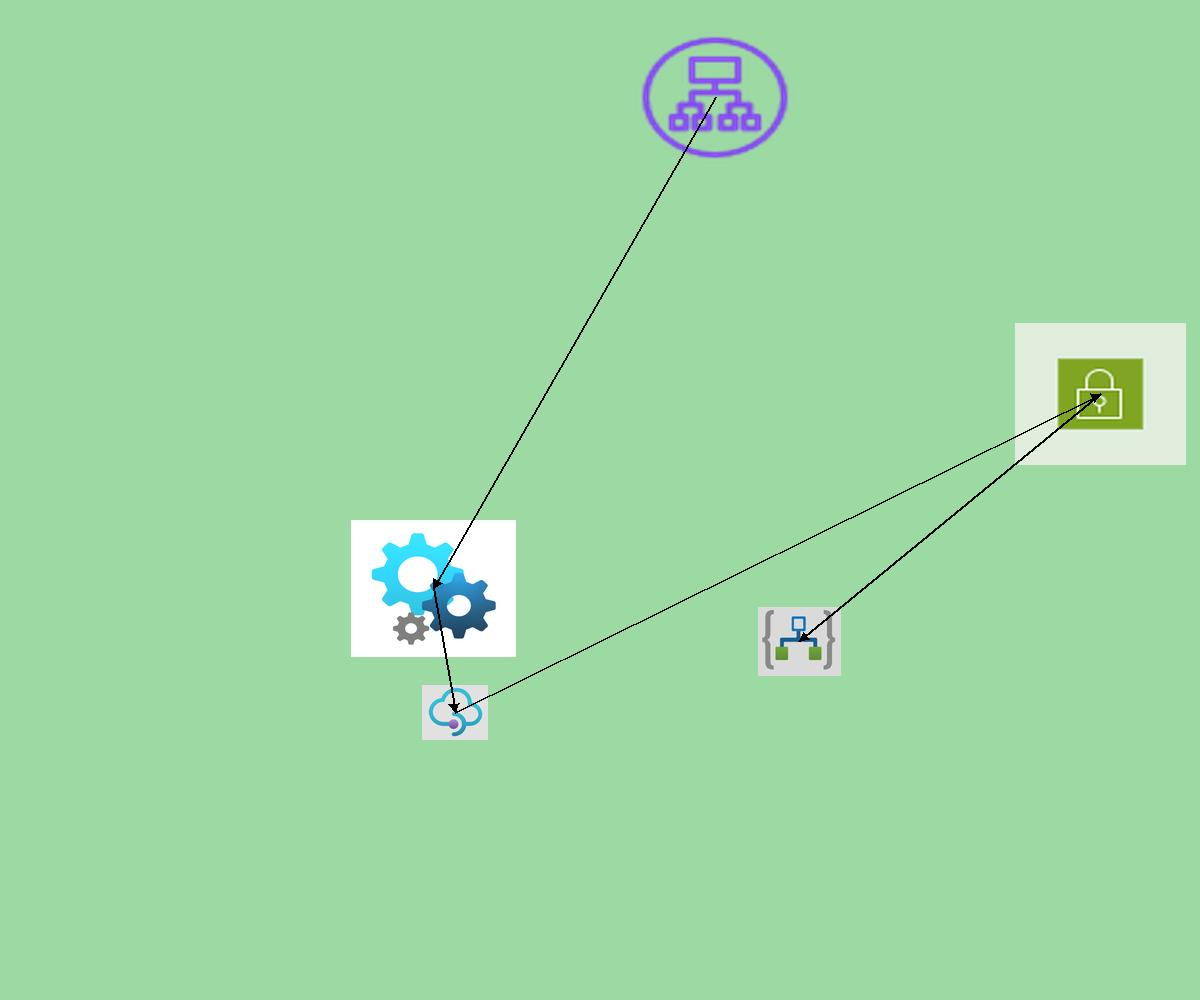AWS-Public-subnet: (1015, 323, 1186, 465)
AWS-Res_Elastic-Load-Balancing_Application-Load-Balancer: (636, 32, 794, 163)
Azure_api: (351, 520, 516, 657)
Azure_api_gateway: (422, 685, 488, 740)
Azure_integration-204-Logic-Apps: (758, 607, 841, 676)
